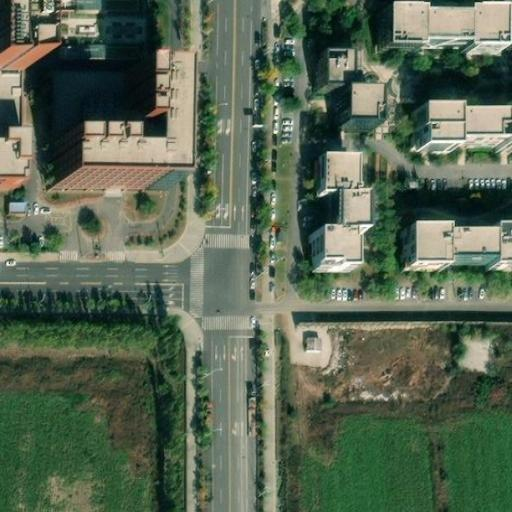building: (51, 71, 161, 189), (380, 13, 500, 55), (308, 163, 355, 270), (403, 232, 512, 272), (314, 58, 373, 130), (416, 112, 512, 151), (9, 202, 25, 213)
